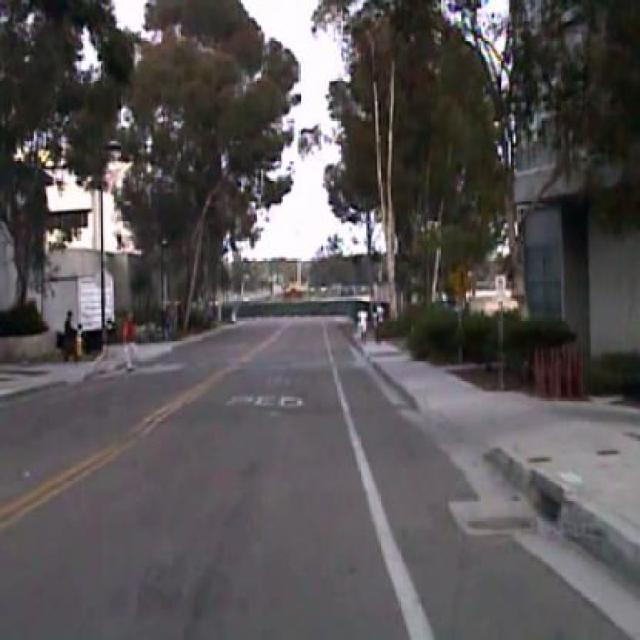pedestrianCrossing: (450, 262, 472, 303)
